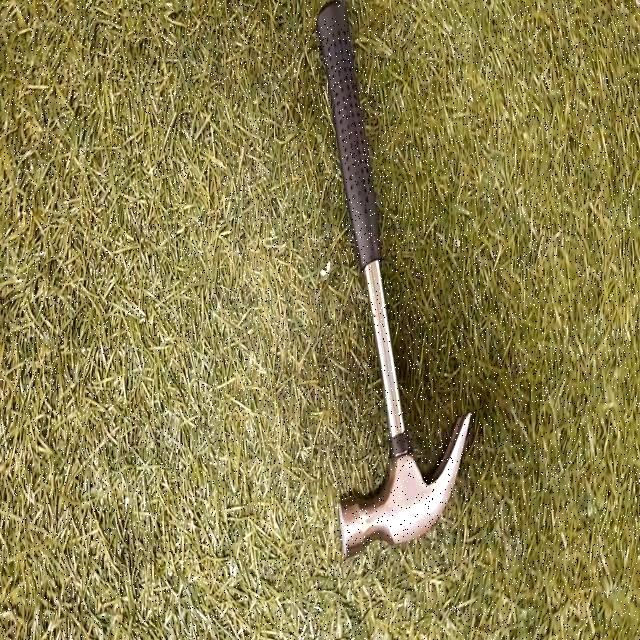hammer: (315, 0, 477, 556)
